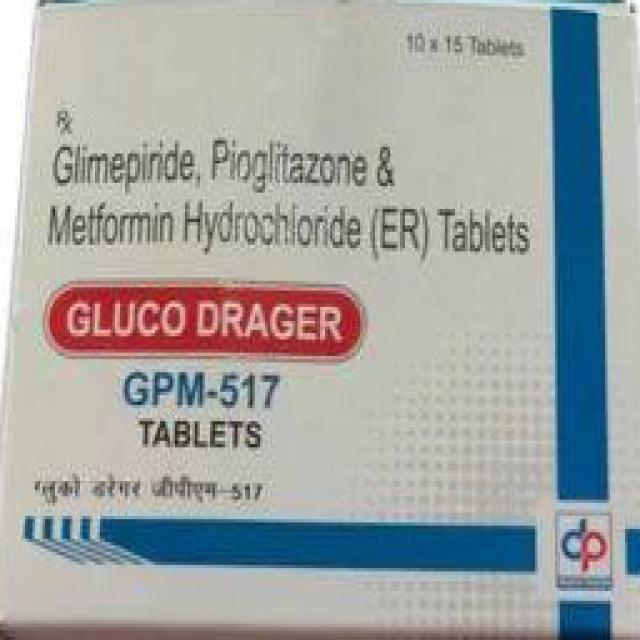drug-name: (64, 297, 347, 346)
